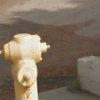Hydrant: (3, 24, 54, 98)
